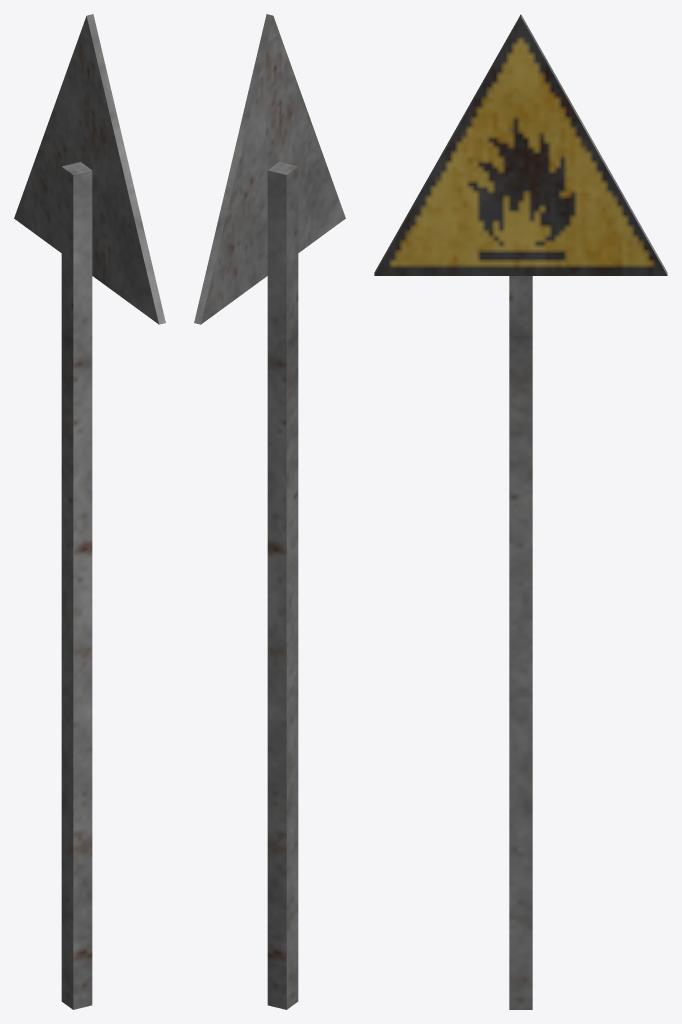
Rendered from Sign_1.fbx.
3 views of the same model, side by side, from view 1: azimuth 30°, elevation 25°; view 2: azimuth 150°, elevation 25°; view 3: azimuth 270°, elevation 25° (orthographic).
Parts seen in each view (by area): view 1: Sign_1; view 2: Sign_1; view 3: Sign_1.
Boxes of the visible parts, x1,y1,x2,y2 form: Sign_1: (14, 14, 165, 1009); Sign_1: (194, 14, 345, 1009); Sign_1: (374, 14, 667, 1009).
Size of the model in its own units: 5.76 by 209 by 55.74.
